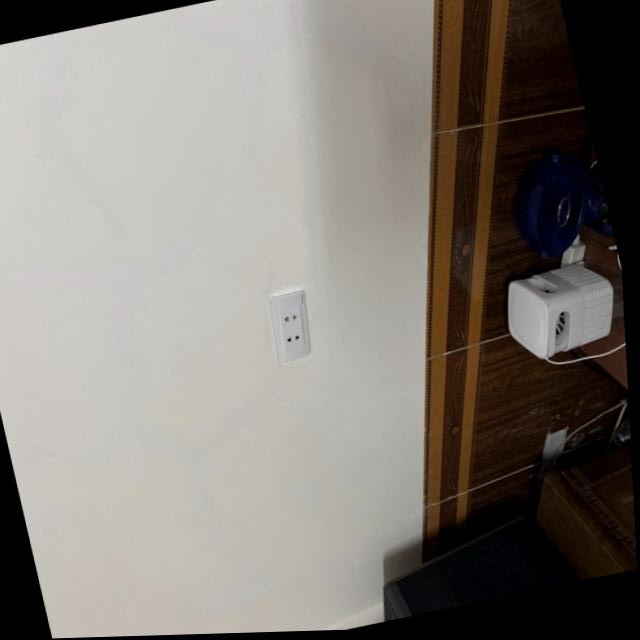outlet: (262, 289, 318, 365)
